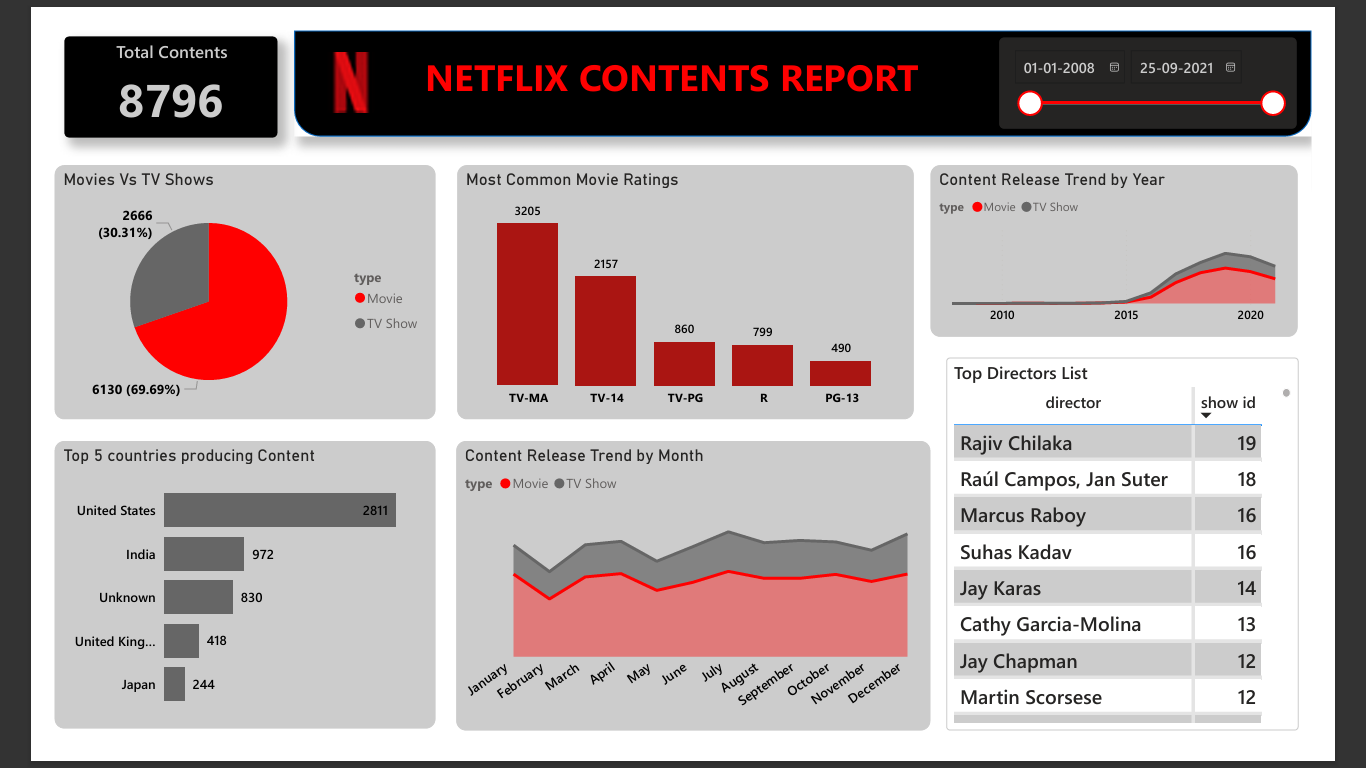

The page's visual inventory and layout, read from the dashboard file:
{"tool":"powerbi","page":{"name":"Report","canvas":[1280,720],"ordinal":0},"visuals":[{"type":"card","title":"Total Contents","fields":{"Values":["Measures (2).Total Content"]},"box":[10.5,6,216.6,103.1],"z":0},{"type":"pieChart","title":"Movies Vs TV Shows","fields":{"Category":["Netflix_cleaneddata.type"],"Y":["CountNonNull(Netflix_cleaneddata.type)"]},"box":[0,137.1,387.7,259],"z":1000},{"type":"barChart","title":"Top 5 countries producing Content","fields":{"Category":["Netflix_cleaneddata.country"],"Y":["CountNonNull(Netflix_cleaneddata.show_id)"]},"box":[0,418.2,387.7,292.9],"z":2000},{"type":"clusteredColumnChart","title":"Most Common Movie Ratings","fields":{"Category":["Netflix_cleaneddata.rating"],"Y":["CountNonNull(Netflix_cleaneddata.show_id)"]},"box":[409.7,137.1,465.6,259],"z":3000},{"type":"shape","box":[243.8,0,1036.2,108.4],"z":4000},{"type":"tableEx","title":"Top Directors List","fields":{"Values":["Netflix_cleaneddata.director","Netflix_cleaneddata.show_id"]},"box":[908.2,333.1,358.5,379.4],"z":5000},{"type":"stackedAreaChart","title":"Content Release Trend by Month","fields":{"Y":["CountNonNull(Netflix_cleaneddata.show_id)"],"Series":["Netflix_cleaneddata.type"],"Category":["Netflix_cleaneddata.MonthName"]},"box":[409.3,418.3,482.5,294.3],"z":6000},{"type":"stackedAreaChart","title":"Content Release Trend by Year","fields":{"Y":["CountNonNull(Netflix_cleaneddata.show_id)"],"Category":["Netflix_cleaneddata.date_added.Variation.Date Hierarchy.Year"],"Series":["Netflix_cleaneddata.type"]},"box":[892.3,137.1,374.2,174.4],"z":7000},{"type":"textbox","box":[372.5,16.9,536.7,77.9],"z":8000},{"type":"slicer","fields":{"Values":["Netflix_cleaneddata.date_added"]},"box":[962,7.5,303.2,92.6],"z":9000},{"type":"image","box":[243.6,16.8,115.9,72.2],"z":10000}]}

Visuals, with their boxes in screenshot pixels (x1, y1, x2, y2), scaled from the page's 1280x720 canvas onto the 1366x768 screenshot:
"Total Contents" card: bbox=[11, 6, 242, 116]
"Movies Vs TV Shows" pieChart: bbox=[0, 146, 414, 423]
"Top 5 countries producing Content" barChart: bbox=[0, 446, 414, 759]
"Most Common Movie Ratings" clusteredColumnChart: bbox=[437, 146, 934, 423]
shape: bbox=[260, 0, 1365, 116]
"Top Directors List" tableEx: bbox=[969, 355, 1352, 760]
"Content Release Trend by Month" stackedAreaChart: bbox=[437, 446, 952, 760]
"Content Release Trend by Year" stackedAreaChart: bbox=[952, 146, 1352, 332]
textbox: bbox=[398, 18, 970, 101]
slicer - Netflix_cleaneddata.date_added: bbox=[1027, 8, 1350, 107]
image: bbox=[260, 18, 384, 95]
